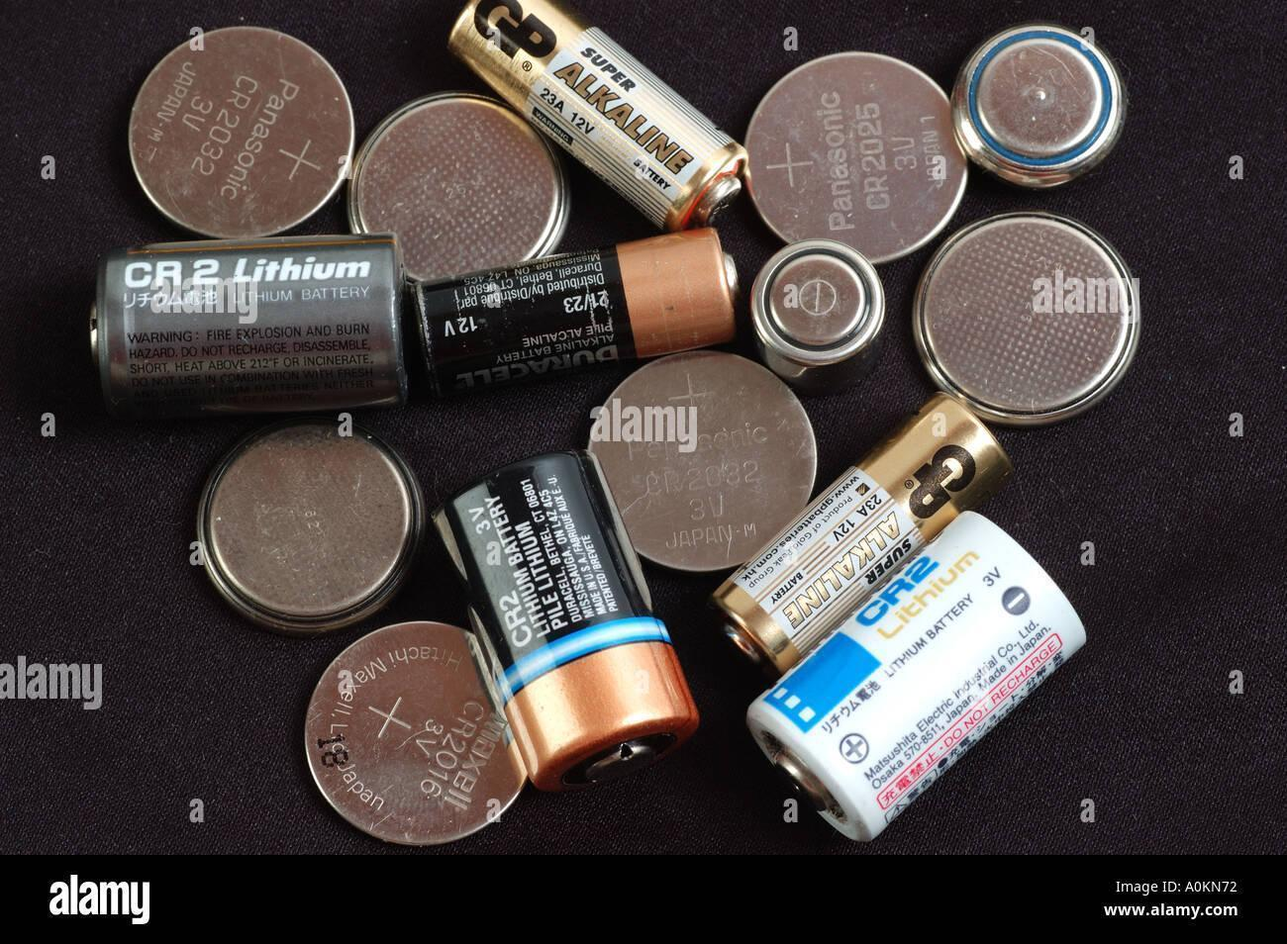AA: (710, 384, 1024, 682), (438, 0, 748, 234), (399, 222, 747, 406)
COIN: (189, 408, 431, 641), (580, 342, 821, 574), (296, 616, 532, 851), (910, 206, 1143, 435), (123, 24, 359, 246), (738, 45, 968, 268), (343, 91, 570, 284), (745, 236, 890, 373)
